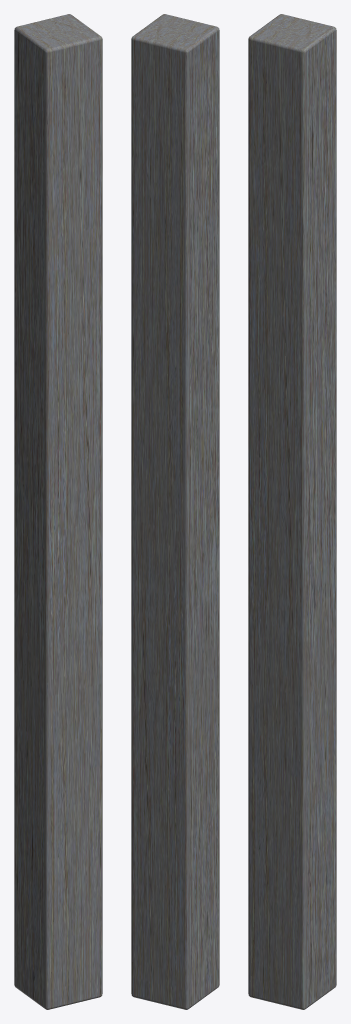
The model's file is BigSupport.obj.
3 renders of one model, left to right at view 1: azimuth 30°, elevation 25°; view 2: azimuth 150°, elevation 25°; view 3: azimuth 330°, elevation 25°, orthographic.
Parts seen in each view (by area): view 1: BigSupport1; view 2: BigSupport1; view 3: BigSupport1.
Part boxes in pixels (x1,y1,x2,y2): BigSupport1: (14, 14, 102, 1009); BigSupport1: (131, 14, 219, 1009); BigSupport1: (248, 14, 336, 1009).
Size of the model in its own units: 25 by 400 by 25.
1 material, 1 textured.
